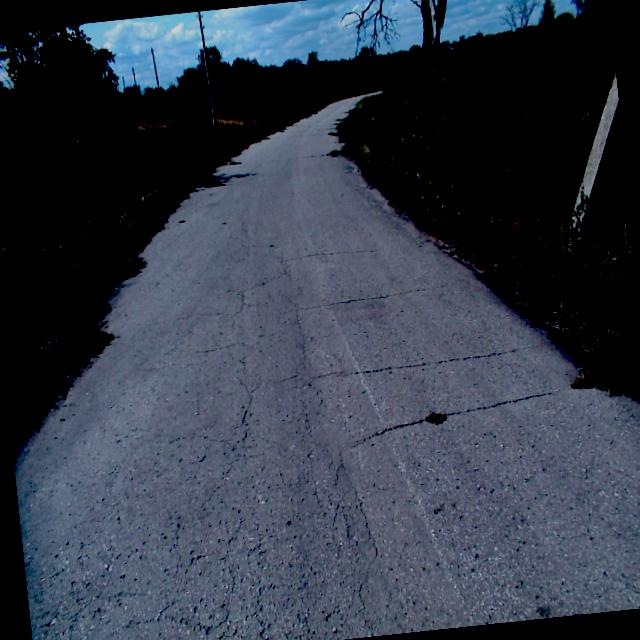road: (13, 89, 640, 640)
